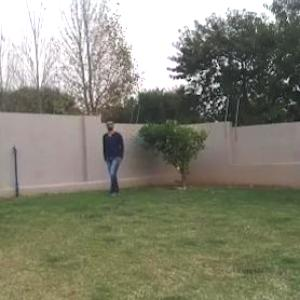follow: (104, 122, 122, 193)
